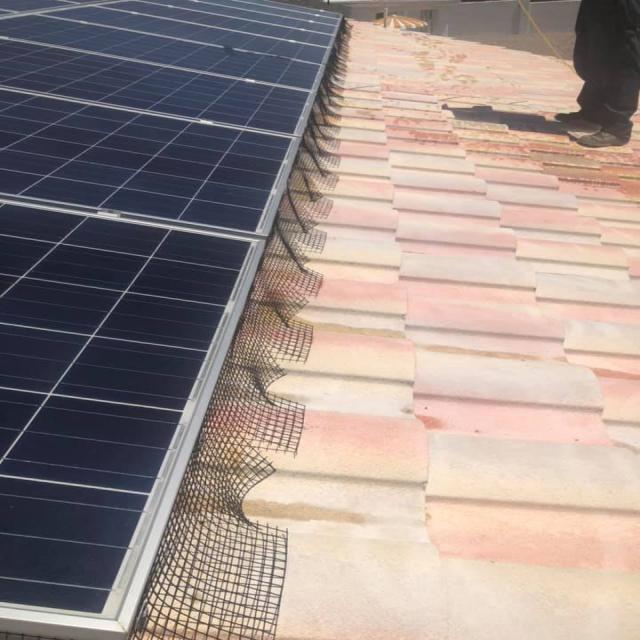clean-solar-panel: (0, 0, 340, 640)
